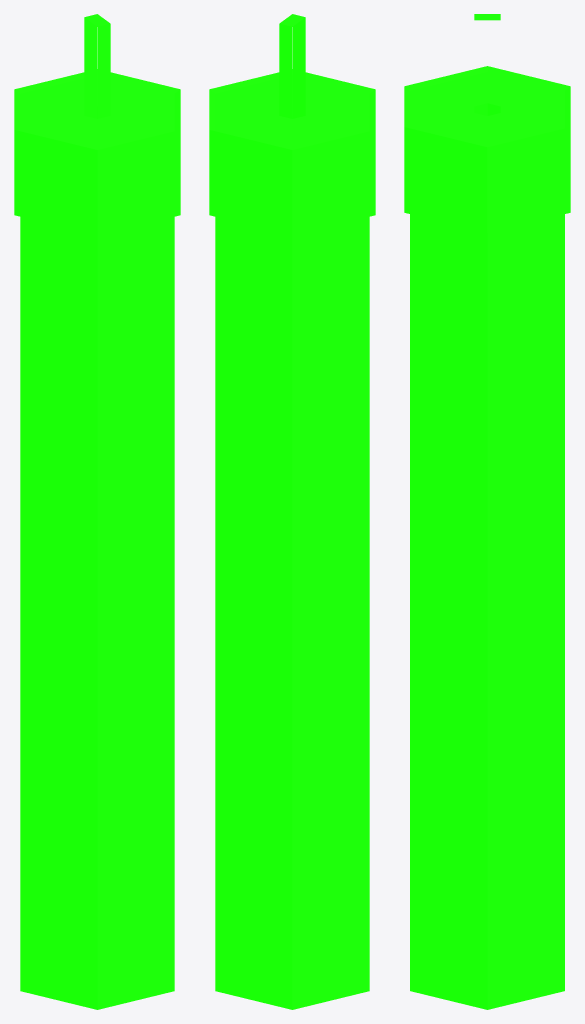
The model's file is glowstick.glb.
The picture shows the model from 3 angles, left to right: view 1: azimuth 30°, elevation 25°; view 2: azimuth 150°, elevation 25°; view 3: azimuth 270°, elevation 25°; orthographic projection.
Visible parts, largest first — view 1: GlowStick; view 2: GlowStick; view 3: GlowStick.
Boxes of the visible parts, bbox=[...] form: GlowStick: bbox=[14, 14, 180, 1009]; GlowStick: bbox=[209, 14, 375, 1009]; GlowStick: bbox=[404, 14, 570, 1009].
Bounding box in the file's own units: 0.2153 × 1.18 × 0.1864.
